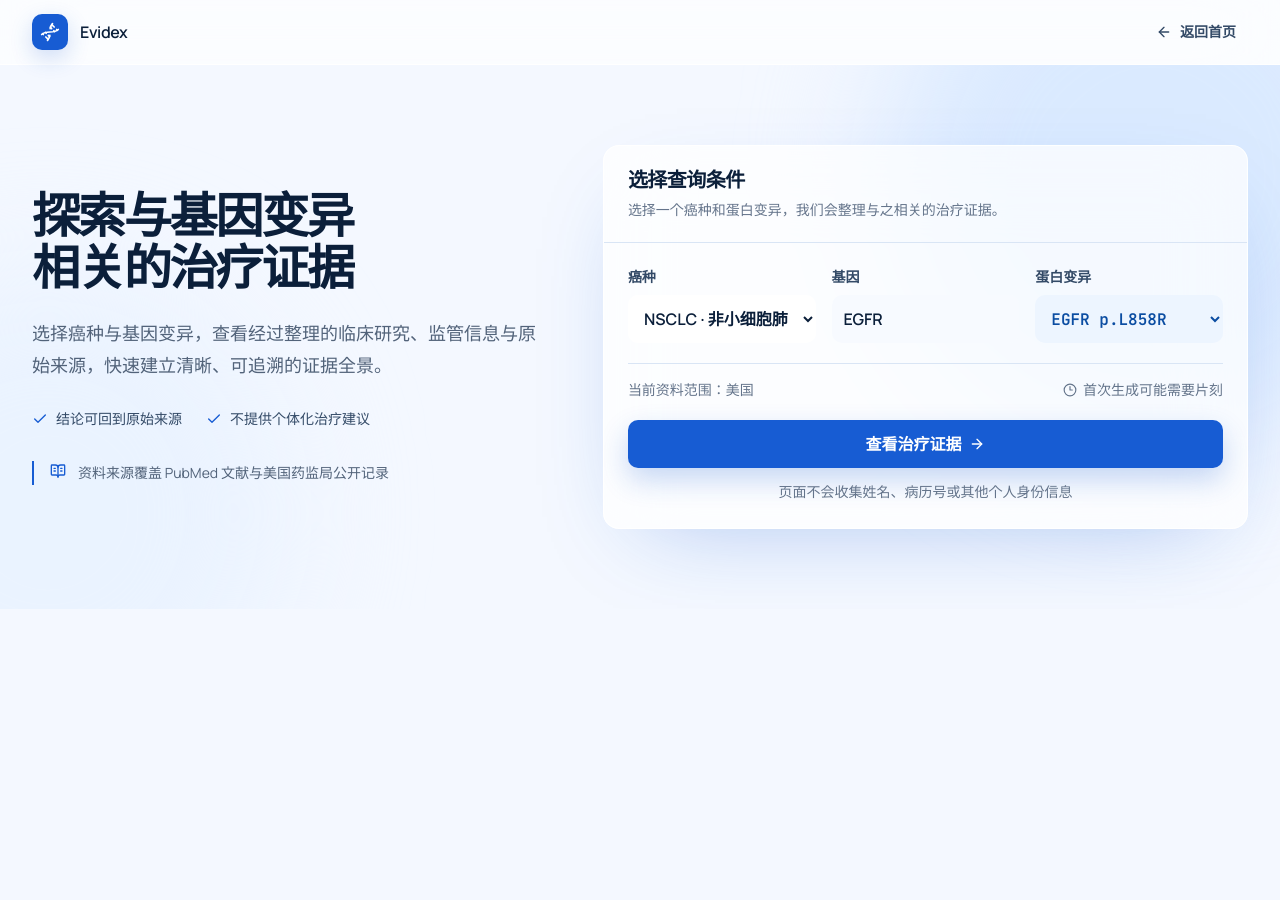
it: EvidenceExplorer › uses Chinese fallbacks for untranslated structured fields without changing source excerpts
Click the button "查看治疗证据" at (925, 444), box [628,420,1223,468]
(page scrolled)
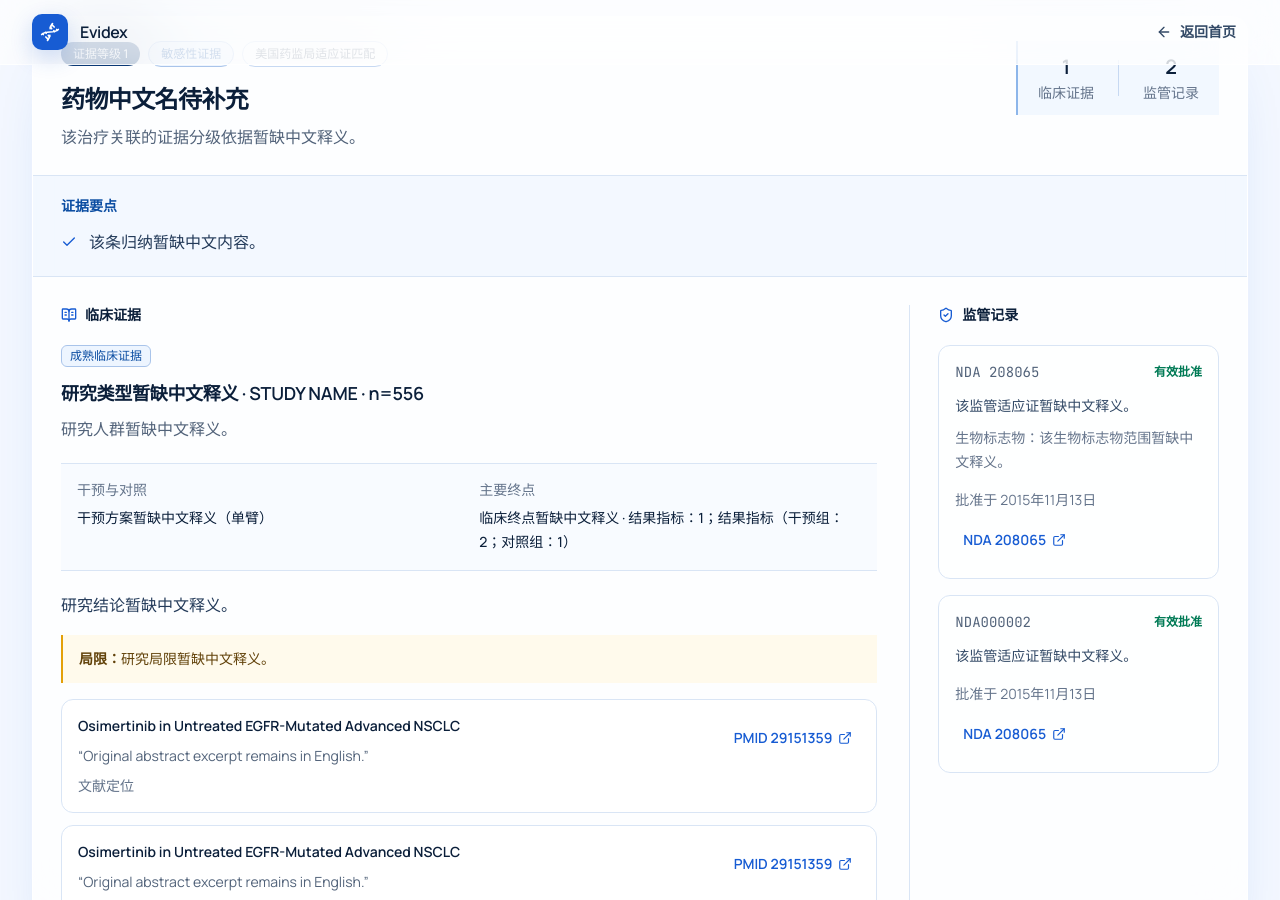
expect the text "该治疗关联的证据分级依据暂缺中文释义。" is shown: met, box [61,126,365,148]
expect the heading "研究类型暂缺中文释义 · STUDY NAME · n=556" is shown: met, box [61,381,424,405]
expect the text "干预方案暂缺中文释义（单臂）" is shown: met, box [77,508,273,527]
